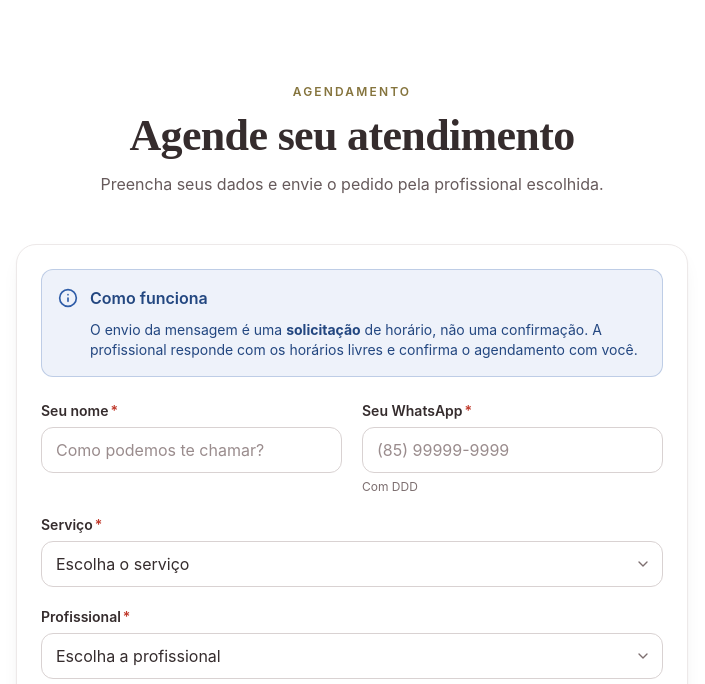
Scenario: BookingSection › exige o consentimento antes de enviar
Type "Maria Silva" into the field labelled "Seu nome*". click: (192, 450)
box: [41,427,342,473]
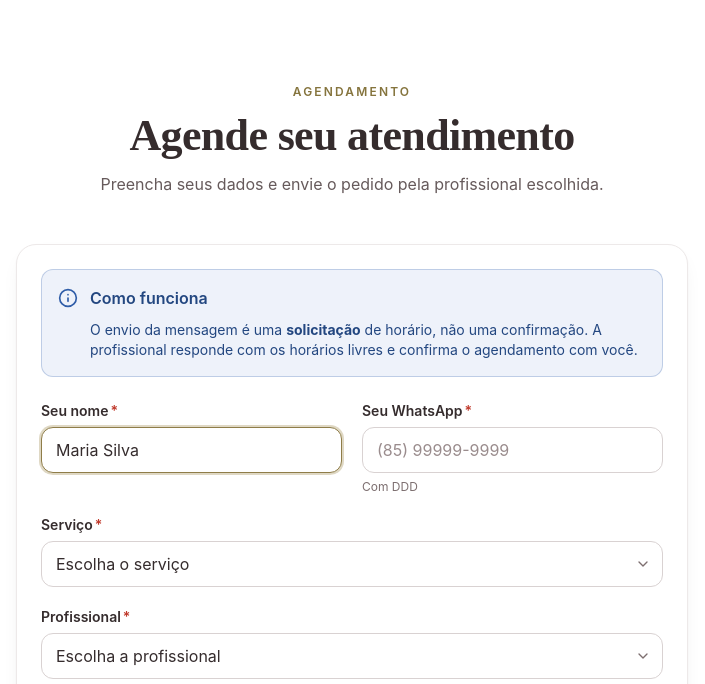
Type "85991234567" into the field labelled "Seu WhatsApp*". click: (512, 450)
box: [362,427,663,473]
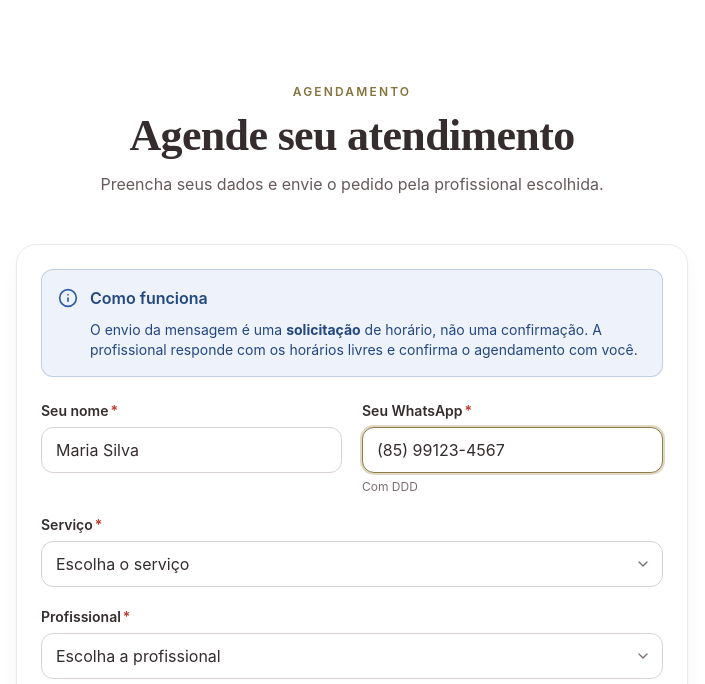
Select "Coloração" in the dropdown labelled "Serviço*". click: (352, 564)
box: [41,541,663,587]
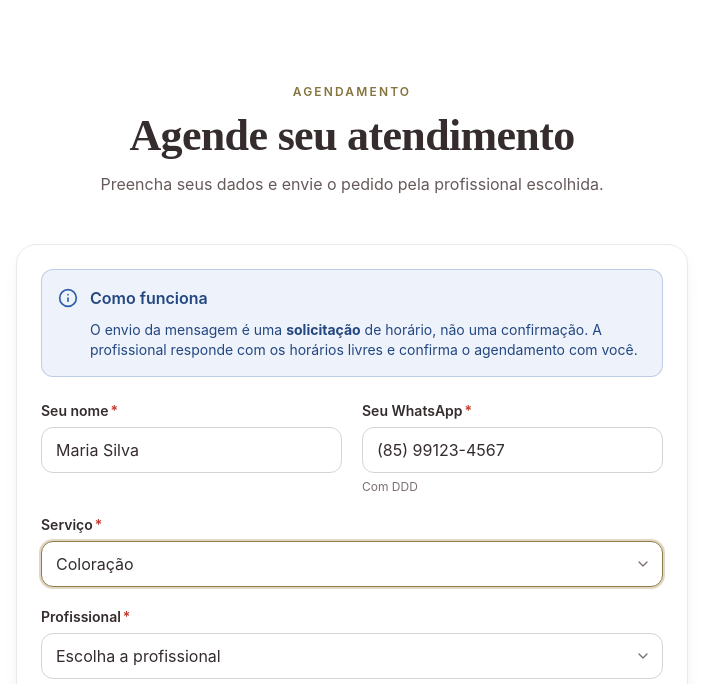
Select "Cibele — Cabeleireira" in the dropdown labelled "Profissional*". click: (352, 656)
box: [41,633,663,679]
(page scrolled)
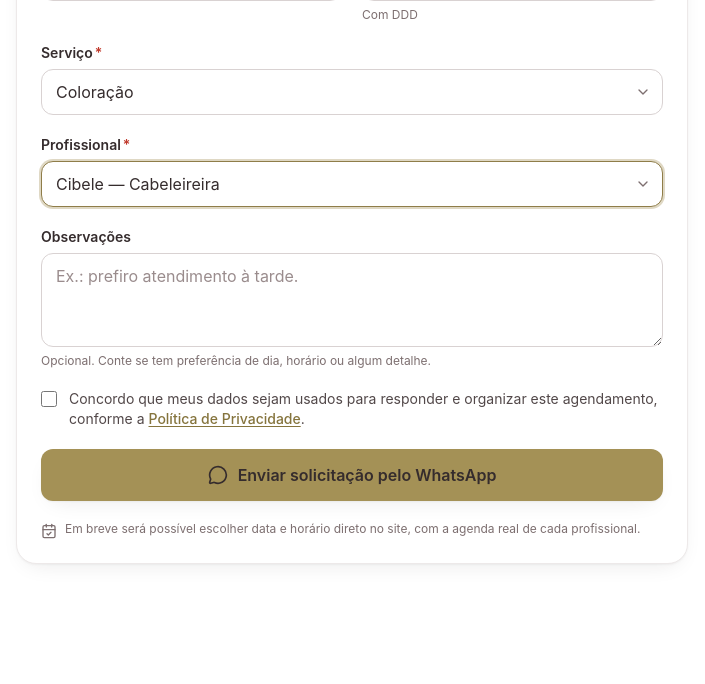
Click the button "Enviar solicitação pelo WhatsApp". click: (352, 475)
box: [41,449,663,501]
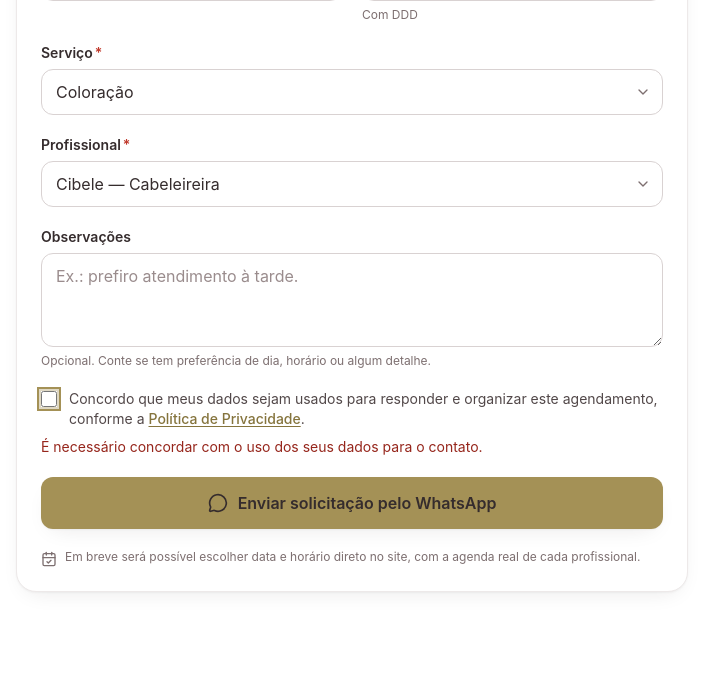
Check: the text "É necessário concordar com o uso dos seus dados para o contato." is shown, box [41,438,483,455]
